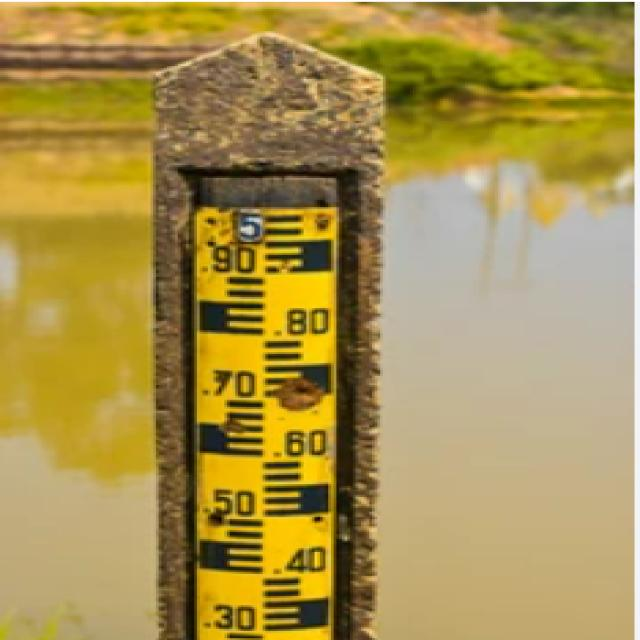ruler: (172, 185, 361, 640)
value: (266, 426, 338, 463), (264, 543, 336, 579), (266, 303, 338, 339), (196, 601, 265, 636), (199, 482, 266, 518), (197, 366, 265, 401), (196, 244, 265, 276), (232, 207, 266, 243)
